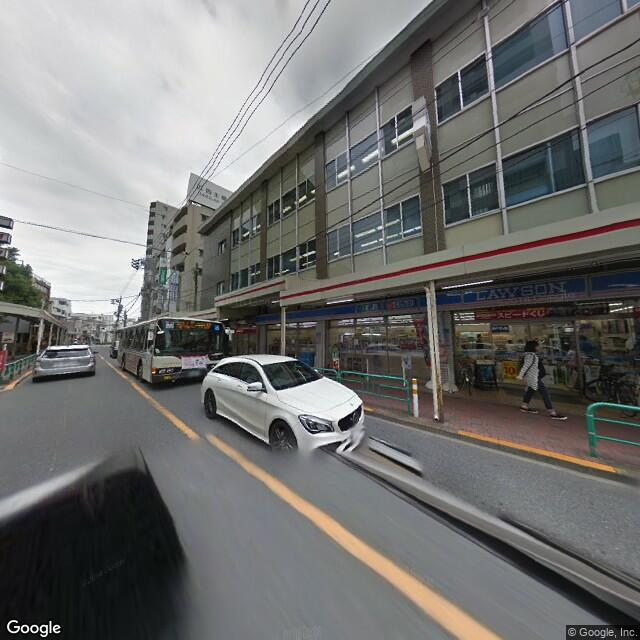lawson: (297, 264, 637, 322)
